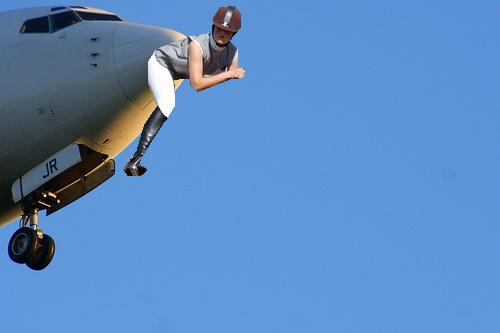tampered: (124, 7, 245, 176)
